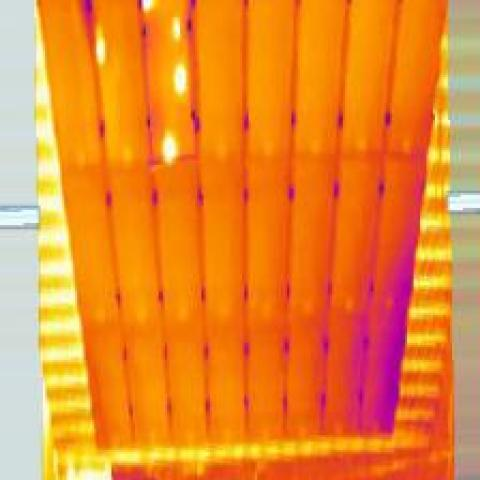fault: (154, 118, 182, 167), (90, 19, 114, 71), (169, 54, 191, 100), (167, 9, 187, 45), (139, 2, 165, 17)
